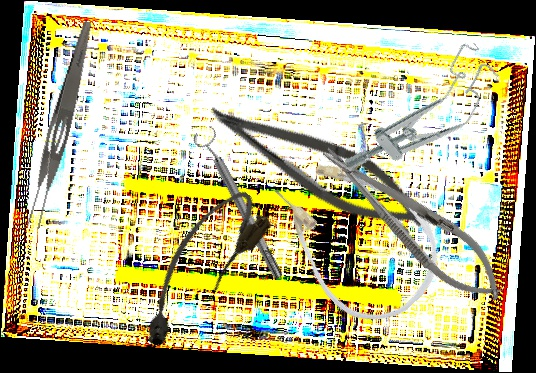Cannula: (250, 128, 463, 343), (118, 179, 279, 357)
Dressing Forceps: (22, 18, 97, 231)
Fixation Ring: (190, 124, 290, 284)
Micro Scissor: (194, 90, 439, 244)
Needle Holder: (308, 128, 518, 317)
Speculum: (335, 37, 512, 200)
